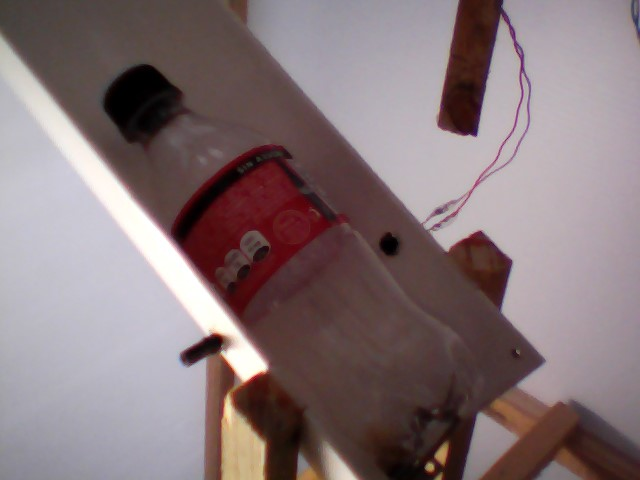plastico: (98, 57, 496, 480)
